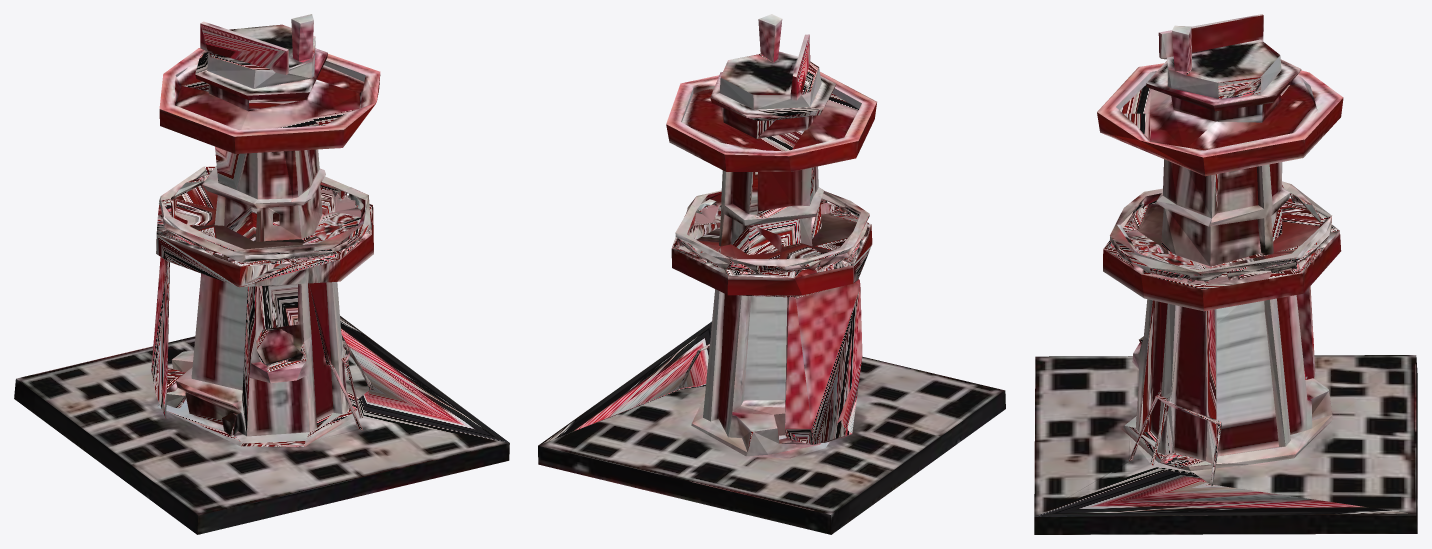
File: bonneville_timing_tower.glb
3 renders of one model, left to right at view 1: azimuth 30°, elevation 25°; view 2: azimuth 150°, elevation 25°; view 3: azimuth 270°, elevation 25°, orthographic. The views are drawn at different scales.
Parts seen in each view (by area): view 1: textured; view 2: textured; view 3: textured.
Boxes of the visible parts, x1,y1,x2,y2 form: textured: [14, 14, 509, 534]; textured: [538, 14, 1005, 534]; textured: [1034, 14, 1417, 534].
Size of the model in its own units: 1.52 by 1.96 by 1.55.
Materials: 1 (1 with a texture image).
